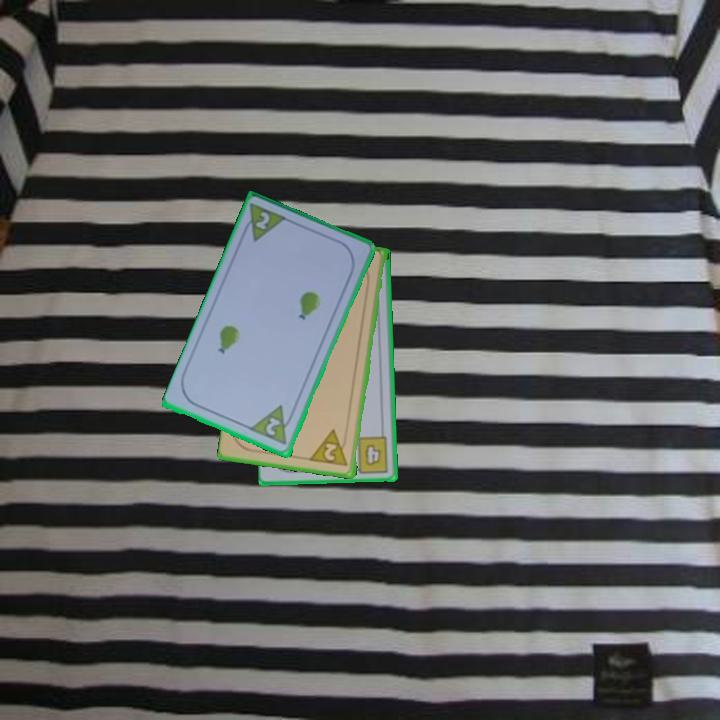2p: (238, 200, 291, 246), (308, 426, 351, 470), (262, 414, 284, 439)
4b: (348, 433, 391, 476)
